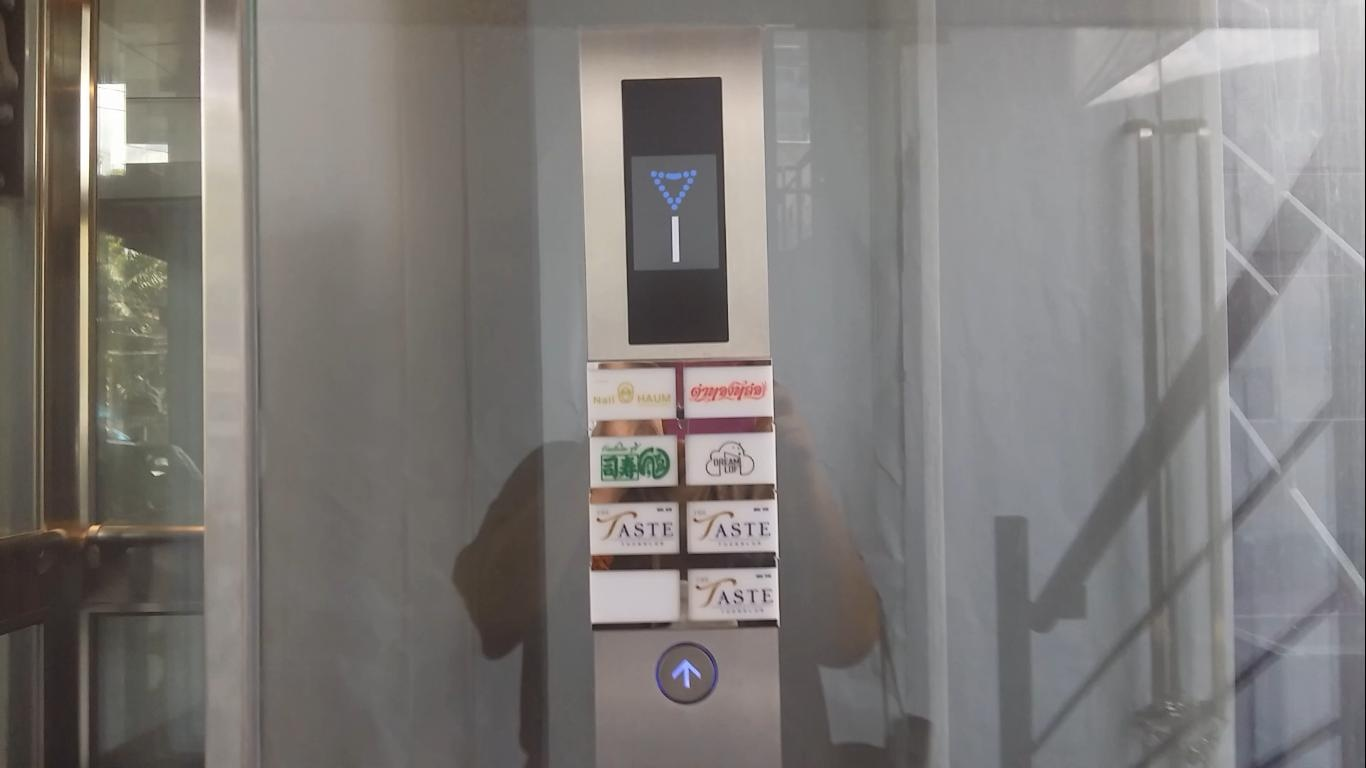led: (620, 75, 731, 345)
up: (656, 640, 720, 706)
